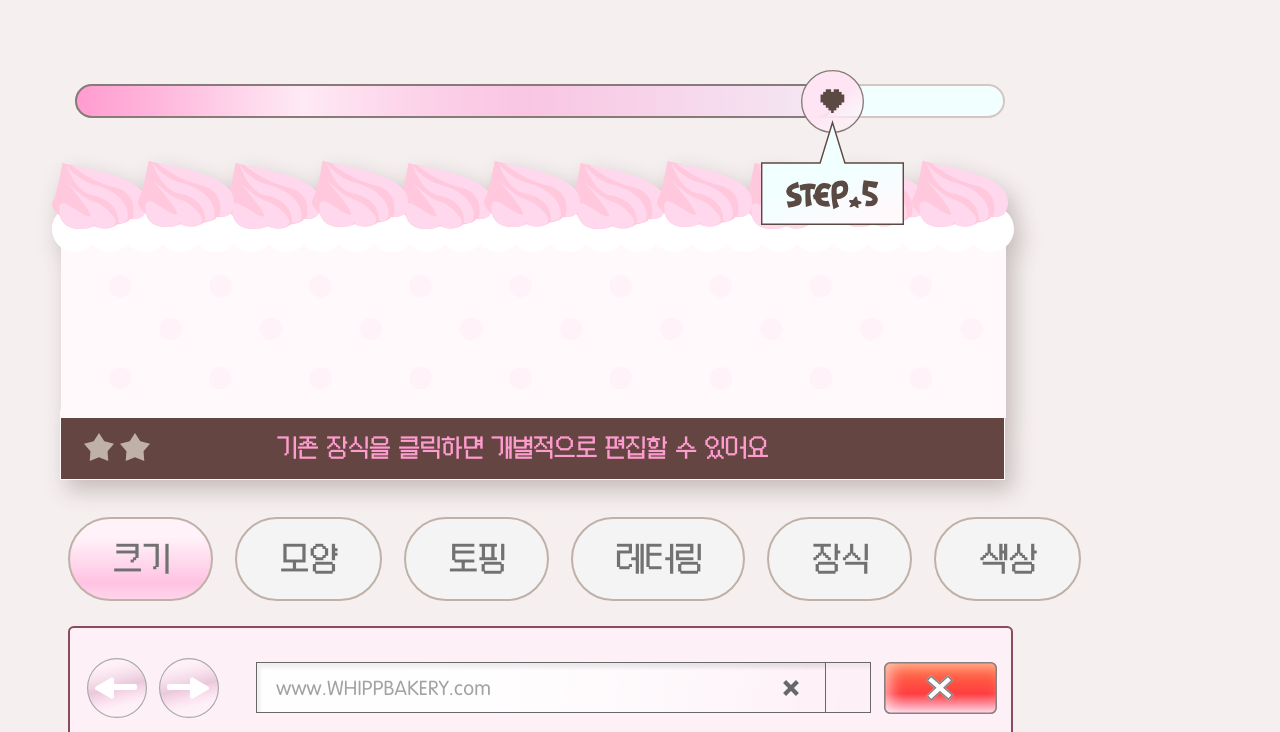
Test case: EditorScreen 장식 탭 › 예시에 처음부터 있던 장식이 차지한 자리의 장식은 목록에 나오지 않는다
The image size is (1280, 732).
What coordinates should you click on to do the following:
click the tab "장식"
I would click on:
 (840, 558)
Its box is x1=767 y1=514 x2=912 y2=602.
(page scrolled)
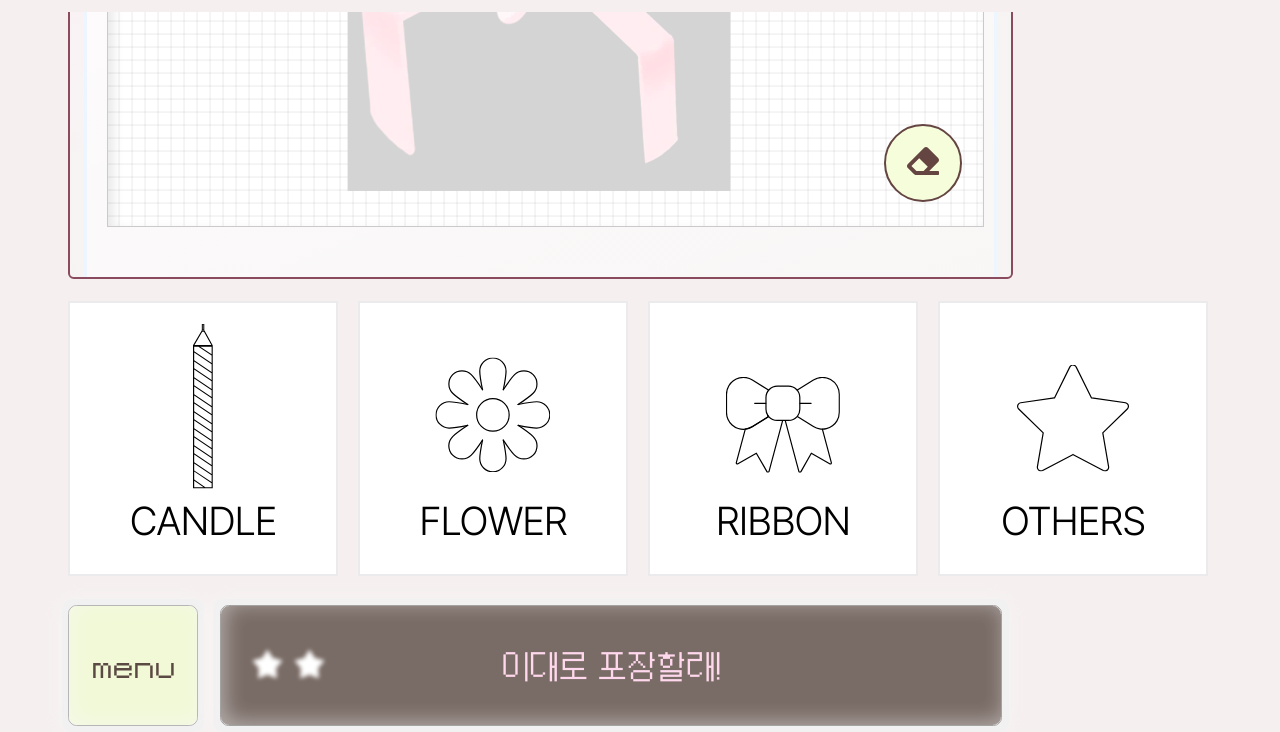
What coordinates should you click on to do the following:
click the button "RIBBON"
I would click on:
 (783, 438)
Its box is x1=648 y1=301 x2=918 y2=576.
Wait 250 ms
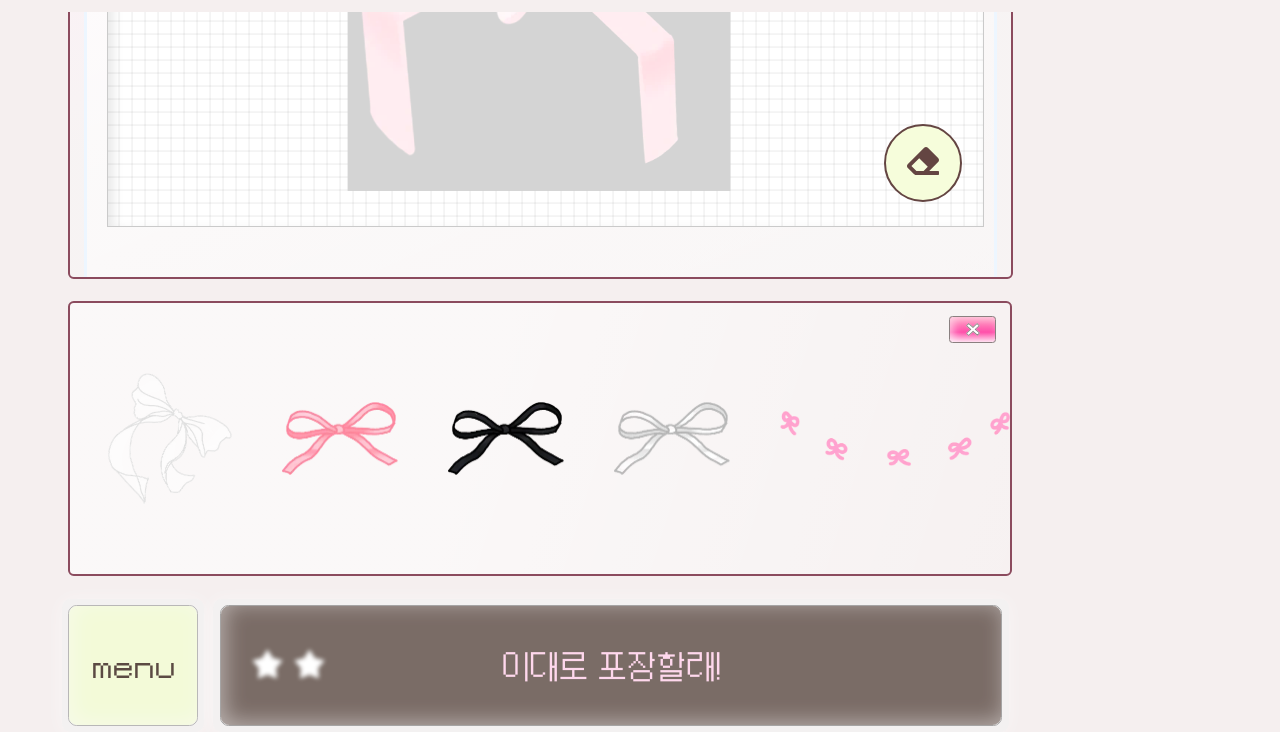
Now the button named "ribbon-garland" is shown, box x1=754 y1=303 x2=1012 y2=574
